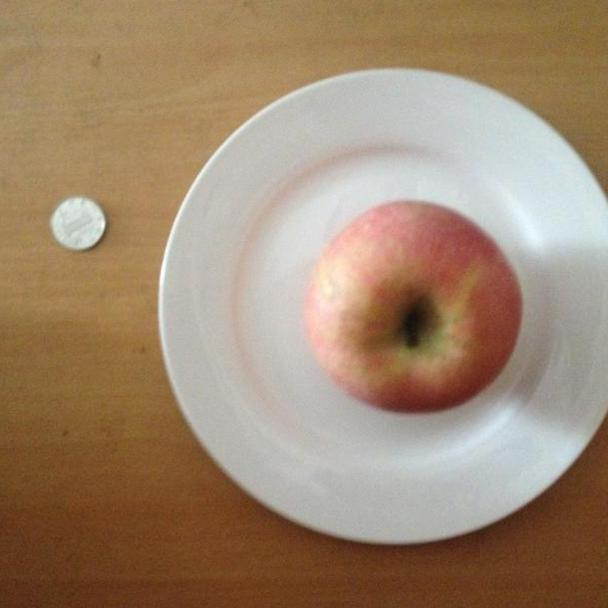apple: (306, 199, 529, 415)
